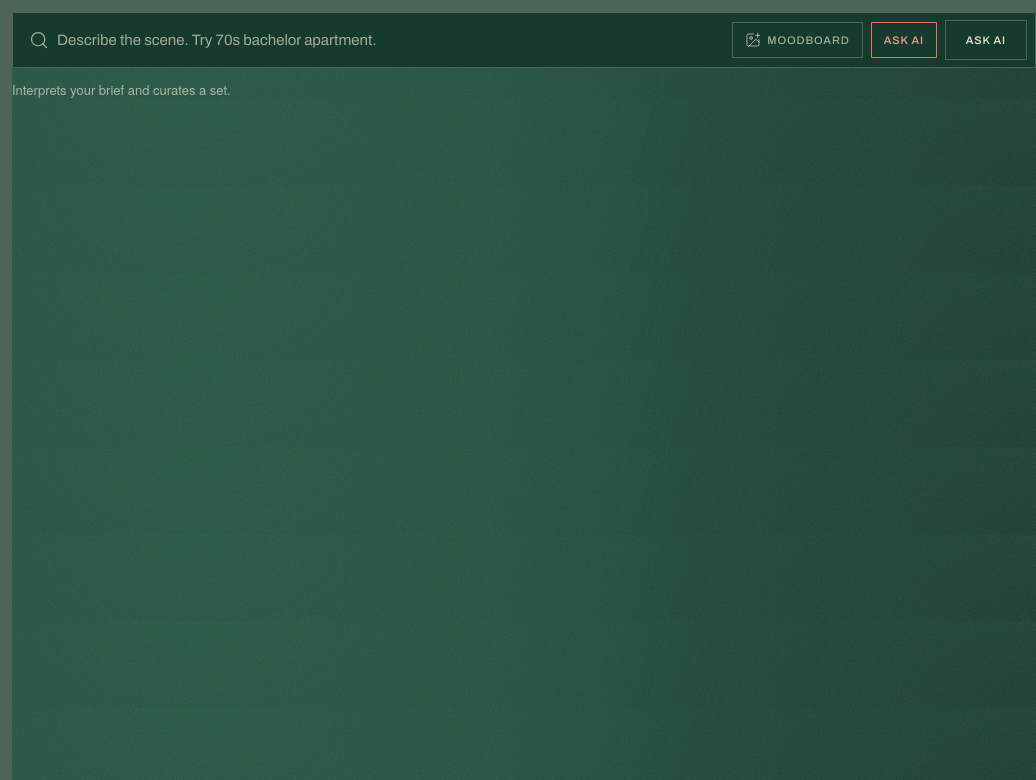
Test case: AI engine › disarms the engine on a second chip click without a modal
This screenshot has width=1036, height=780.
Click the 1st button "Ask AI" at {"x": 904, "y": 40}, box [871, 22, 937, 58]
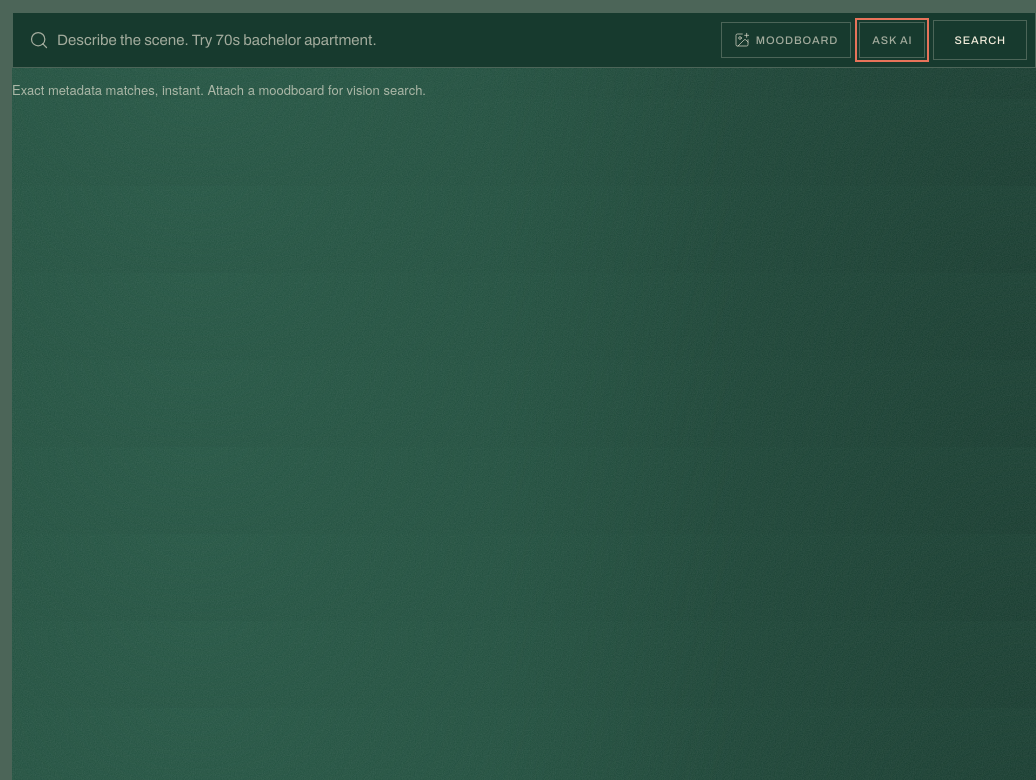
Check: the button "Ask AI" is shown, box [859, 22, 925, 58]
Check: the submit button reads "Search", box [933, 20, 1027, 60]
